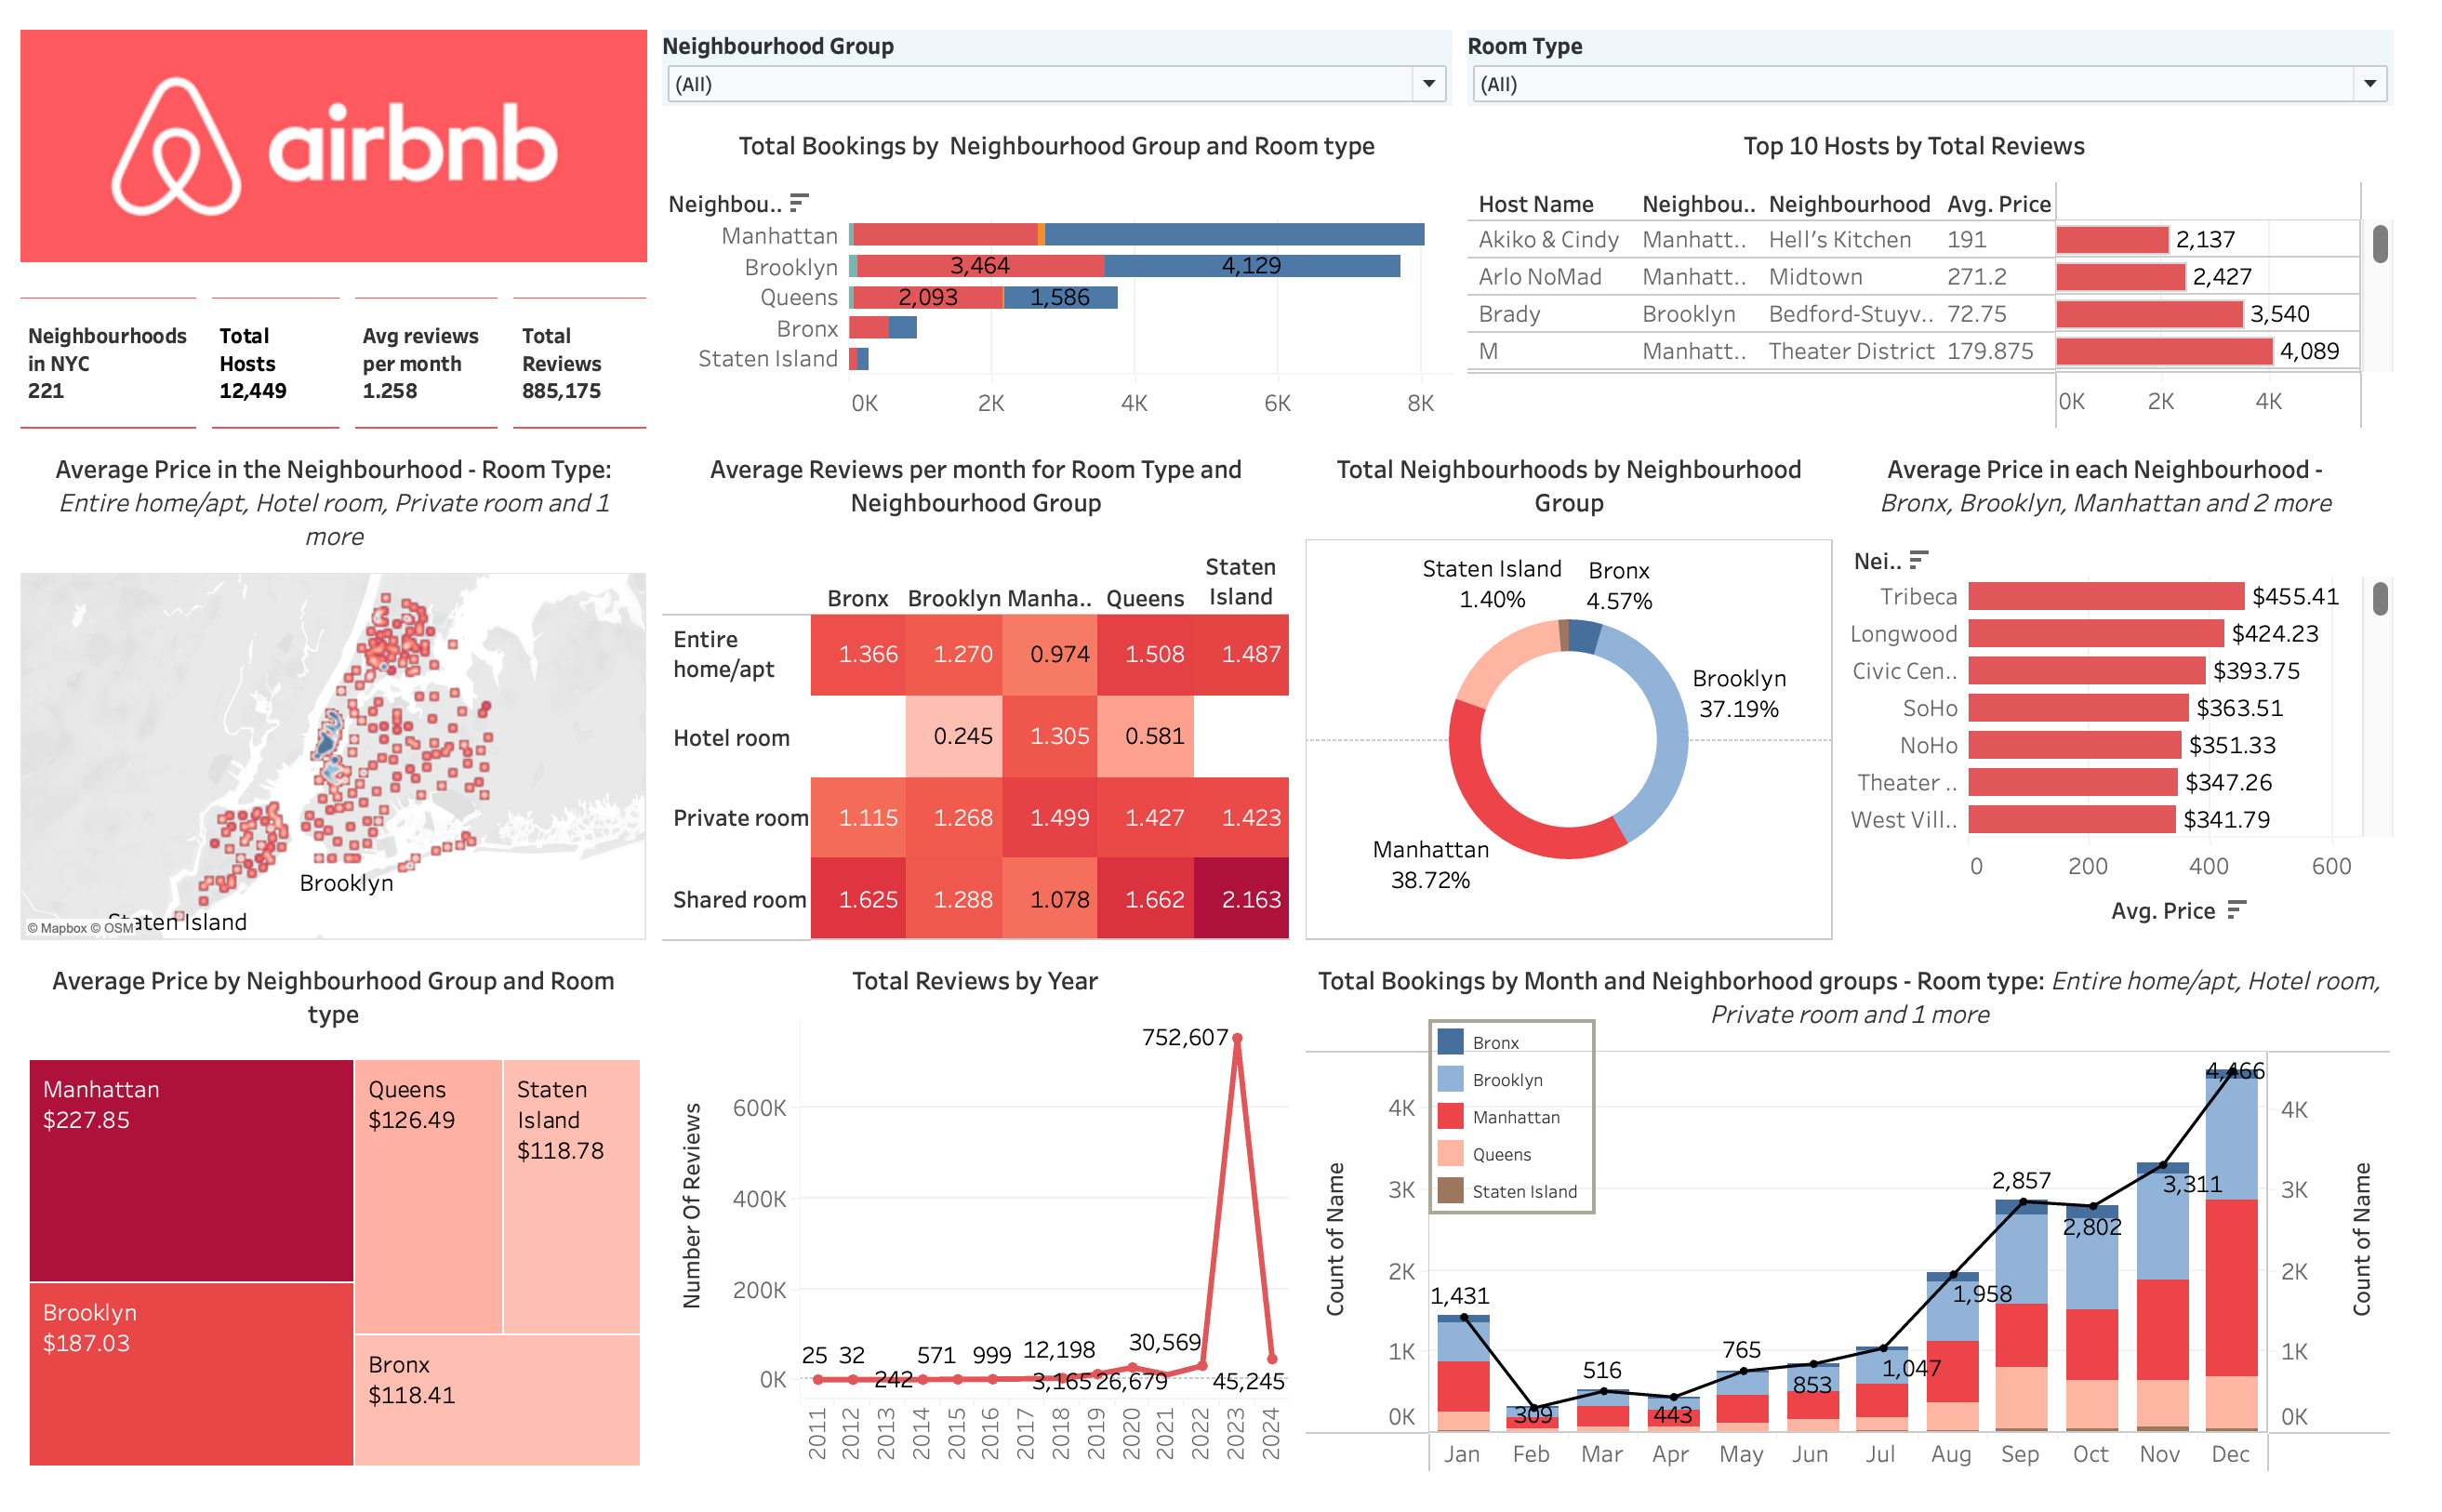

The page's visual inventory and layout, read from the dashboard file:
{"tool":"tableau","page":{"name":"Dashboard 1","canvas":[1300,800],"ordinal":0},"visuals":[{"type":"image","param":"Image/airbnb.jpg","box":[8,8,345,144]},{"type":"filter","title":"Sheet 8","param":"[federated.14wzsd61m9dbbg1bxaiym19a3rjd].[none:neighbourhood_group:nk]","box":[353,8,433,49]},{"type":"filter","title":"Sheet 2","param":"[federated.14wzsd61m9dbbg1bxaiym19a3rjd].[none:room_type:nk]","box":[786,8,506,49]},{"type":"worksheet","title":"Sheet 5","mark":"Bar","rows":["neighbourhood_group"],"cols":["name"],"box":[353,57,433,174]},{"type":"worksheet","title":"Sheet 4","mark":"Automatic","rows":["host_name","neighbourhood_group","neighbourhood","price"],"cols":["number_of_reviews"],"box":[786,57,506,174]},{"type":"worksheet","title":"Sheet 11","mark":"Automatic","box":[8,152,103,79]},{"type":"worksheet","title":"Sheet 10","mark":"Automatic","box":[111,152,77,79]},{"type":"worksheet","title":"Sheet 12","mark":"Automatic","box":[188,152,85,79]},{"type":"worksheet","title":"Sheet 13","mark":"Automatic","box":[273,152,80,79]},{"type":"worksheet","title":"Sheet 1","mark":"Heatmap","rows":["latitude"],"cols":["longitude"],"box":[8,231,345,275]},{"type":"worksheet","title":"Sheet 9","mark":"Square","rows":["room_type"],"cols":["neighbourhood_group"],"box":[353,231,346,275]},{"type":"worksheet","title":"Sheet 3","mark":"Pie","rows":["Calculation_871798397949583361","Calculation_871798397949583361"],"box":[699,231,292,275]},{"type":"worksheet","title":"Sheet 8","mark":"Automatic","rows":["neighbourhood"],"cols":["price"],"box":[991,231,301,275]},{"type":"worksheet","title":"Sheet 7","mark":"Automatic","box":[8,506,345.5,286]},{"type":"worksheet","title":"Sheet 6","mark":"Automatic","rows":["number_of_reviews"],"cols":["last_review"],"box":[353.5,506,345.5,286]},{"type":"worksheet","title":"Sheet 2","mark":"Bar","rows":["name","name"],"cols":["last_review"],"box":[699,506,593,286]},{"type":"legend","title":"Sheet 2","param":"[federated.14wzsd61m9dbbg1bxaiym19a3rjd].[none:neighbourhood_group:nk]","box":[769,544,90,105]}]}

Visuals, with their boxes in screenshot pixels (x1, y1, x2, y2), scaled from the page's 1300x800 canvas onto the 2442x1512 screenshot:
image: bbox=[15, 15, 663, 287]
"Sheet 8" filter: bbox=[663, 15, 1477, 108]
"Sheet 2" filter: bbox=[1477, 15, 2427, 108]
"Sheet 5" worksheet (Bar marks): bbox=[663, 108, 1477, 437]
"Sheet 4" worksheet: bbox=[1477, 108, 2427, 437]
"Sheet 11" worksheet: bbox=[15, 287, 208, 437]
"Sheet 10" worksheet: bbox=[208, 287, 353, 437]
"Sheet 12" worksheet: bbox=[353, 287, 512, 437]
"Sheet 13" worksheet: bbox=[512, 287, 663, 437]
"Sheet 1" worksheet (Heatmap marks): bbox=[15, 437, 663, 956]
"Sheet 9" worksheet (Square marks): bbox=[663, 437, 1313, 956]
"Sheet 3" worksheet (Pie marks): bbox=[1313, 437, 1862, 956]
"Sheet 8" worksheet: bbox=[1862, 437, 2427, 956]
"Sheet 7" worksheet: bbox=[15, 956, 664, 1497]
"Sheet 6" worksheet: bbox=[664, 956, 1313, 1497]
"Sheet 2" worksheet (Bar marks): bbox=[1313, 956, 2427, 1497]
"Sheet 2" legend: bbox=[1444, 1028, 1613, 1227]
